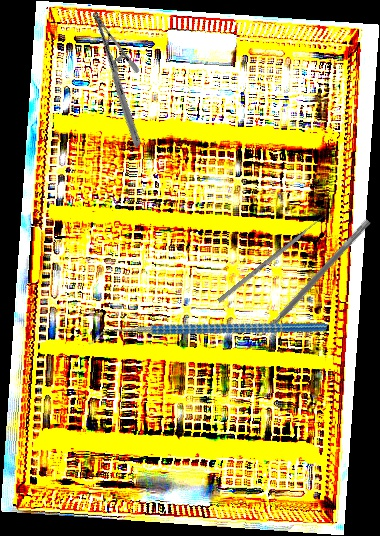Chopper: (88, 255, 328, 414)
Needle Holder: (46, 9, 187, 149)
Pusher: (217, 211, 329, 304)
Spatula Surgical: (251, 213, 372, 345)
